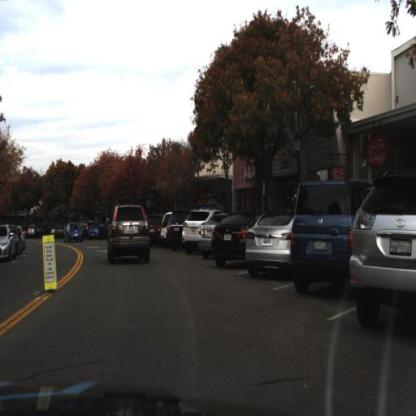car: (351, 168, 416, 344), (289, 170, 362, 310), (243, 206, 294, 281), (106, 201, 155, 270), (211, 213, 247, 269), (181, 206, 208, 254), (165, 207, 190, 251), (2, 224, 28, 265), (198, 210, 216, 264), (61, 220, 85, 248), (161, 212, 173, 244)
